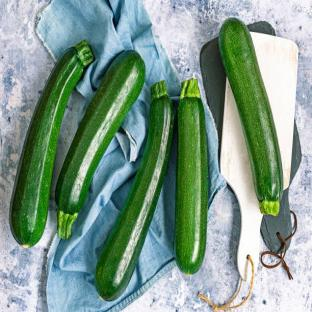Zucchini: (95, 81, 173, 301), (10, 41, 93, 247), (56, 51, 145, 238), (219, 19, 282, 215), (175, 80, 208, 274)
